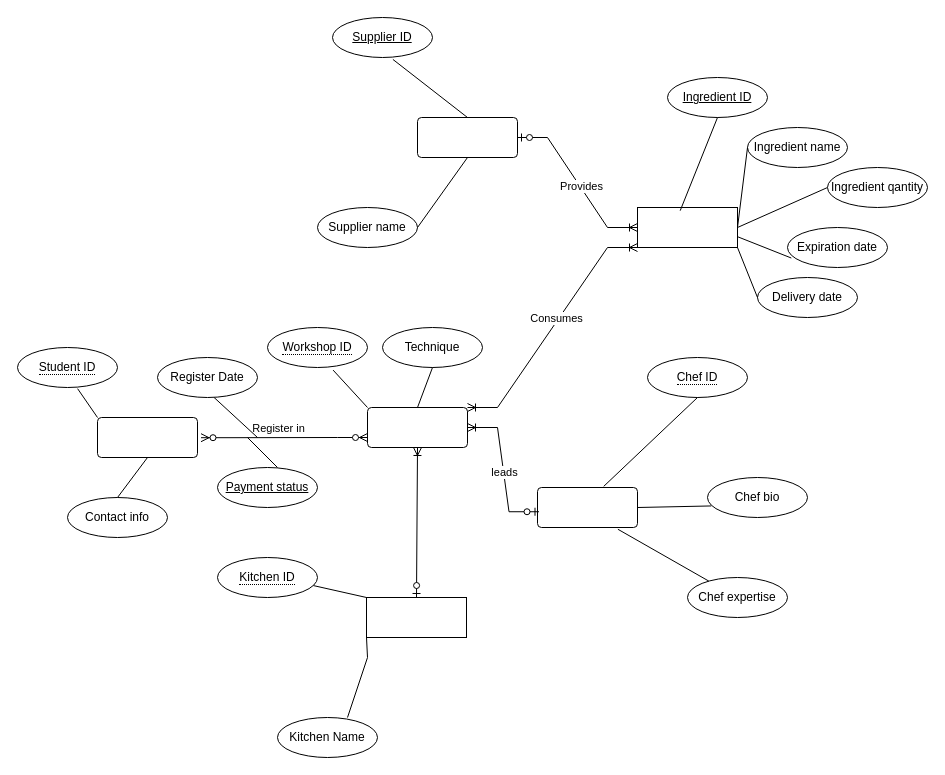
Image size: 945x775. Some labels were removed from this diagram. Each missing label, with the centre of its shape:
"Chef" belongs at (587,507).
"Ingredient batch" belongs at (687,227).
"Kitchen" belongs at (416,617).
"Student" belongs at (147,437).
"Supplier" belongs at (467,137).
"Workshop" belongs at (417,427).
